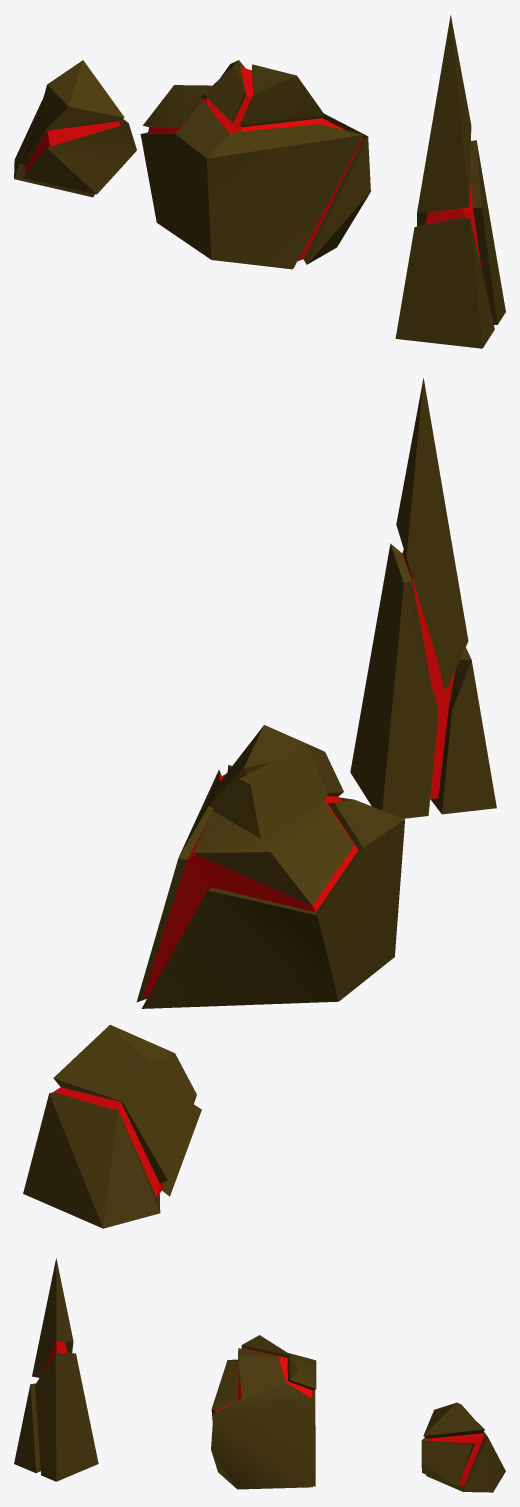
The model's file is LavaProps.fbx.
3 views of the same model, one above another, from view 1: azimuth 30°, elevation 25°; view 2: azimuth 150°, elevation 25°; view 3: azimuth 270°, elevation 25° (orthographic). The views are drawn at different scales.
Parts seen in each view (by area): view 1: LavaStone2, LavaSpike, LavaStone1; view 2: LavaStone2, LavaSpike, LavaStone1; view 3: LavaStone2, LavaSpike, LavaStone1.
Boxes of the visible parts, x1,y1,x2,y2 form: LavaStone2: [140, 60, 370, 269]; LavaSpike: [395, 15, 505, 348]; LavaStone1: [14, 60, 136, 197]; LavaStone2: [136, 725, 404, 1008]; LavaSpike: [350, 378, 496, 818]; LavaStone1: [23, 1024, 201, 1228]; LavaStone2: [211, 1335, 316, 1489]; LavaSpike: [14, 1258, 98, 1481]; LavaStone1: [421, 1402, 505, 1492].
Bounding box in the file's own units: 11.8 × 23.9 × 43.42.
